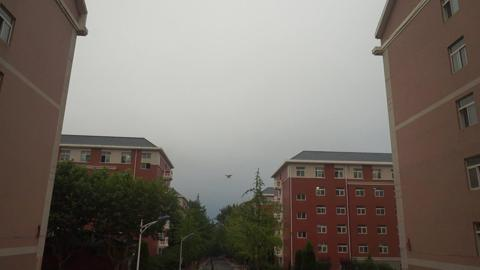UAV: (226, 175, 232, 179)
